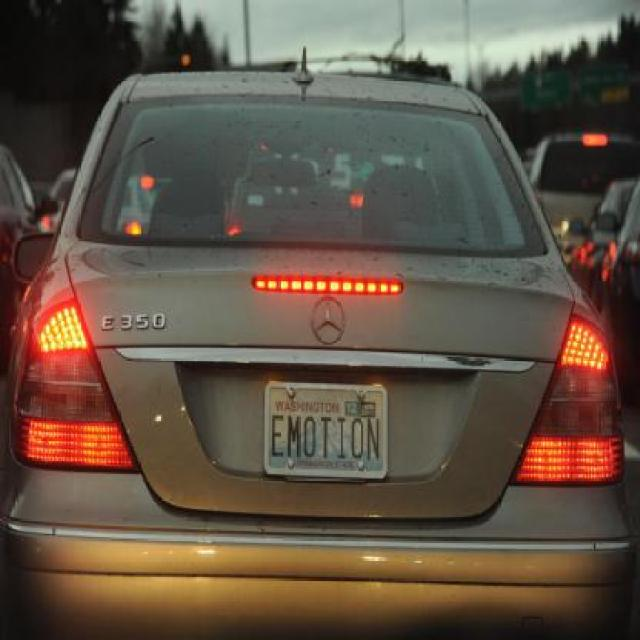License-Plates: (265, 379, 387, 479)
